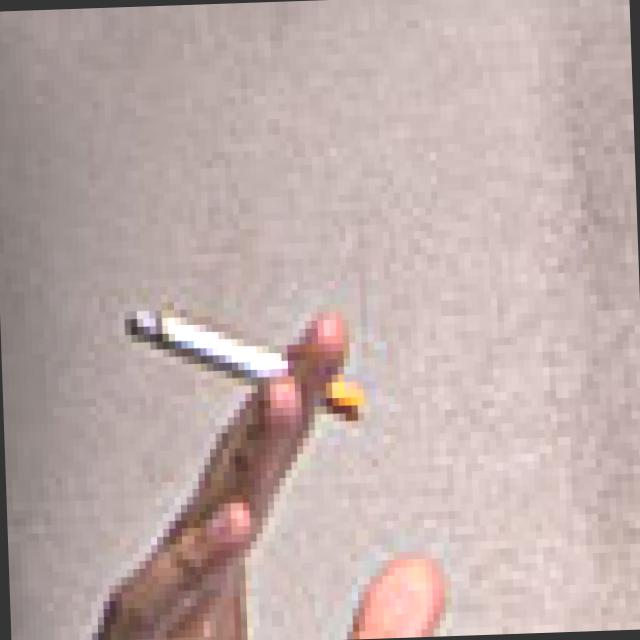cigarette: (120, 295, 366, 431)
